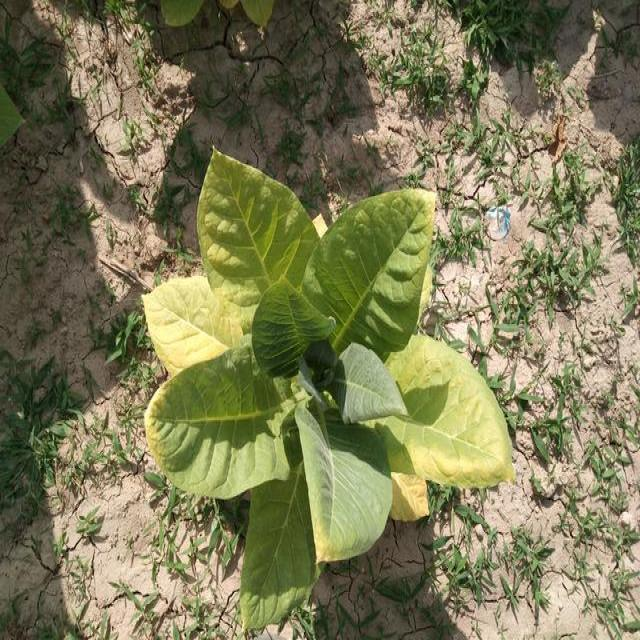crop: (132, 136, 513, 616)
